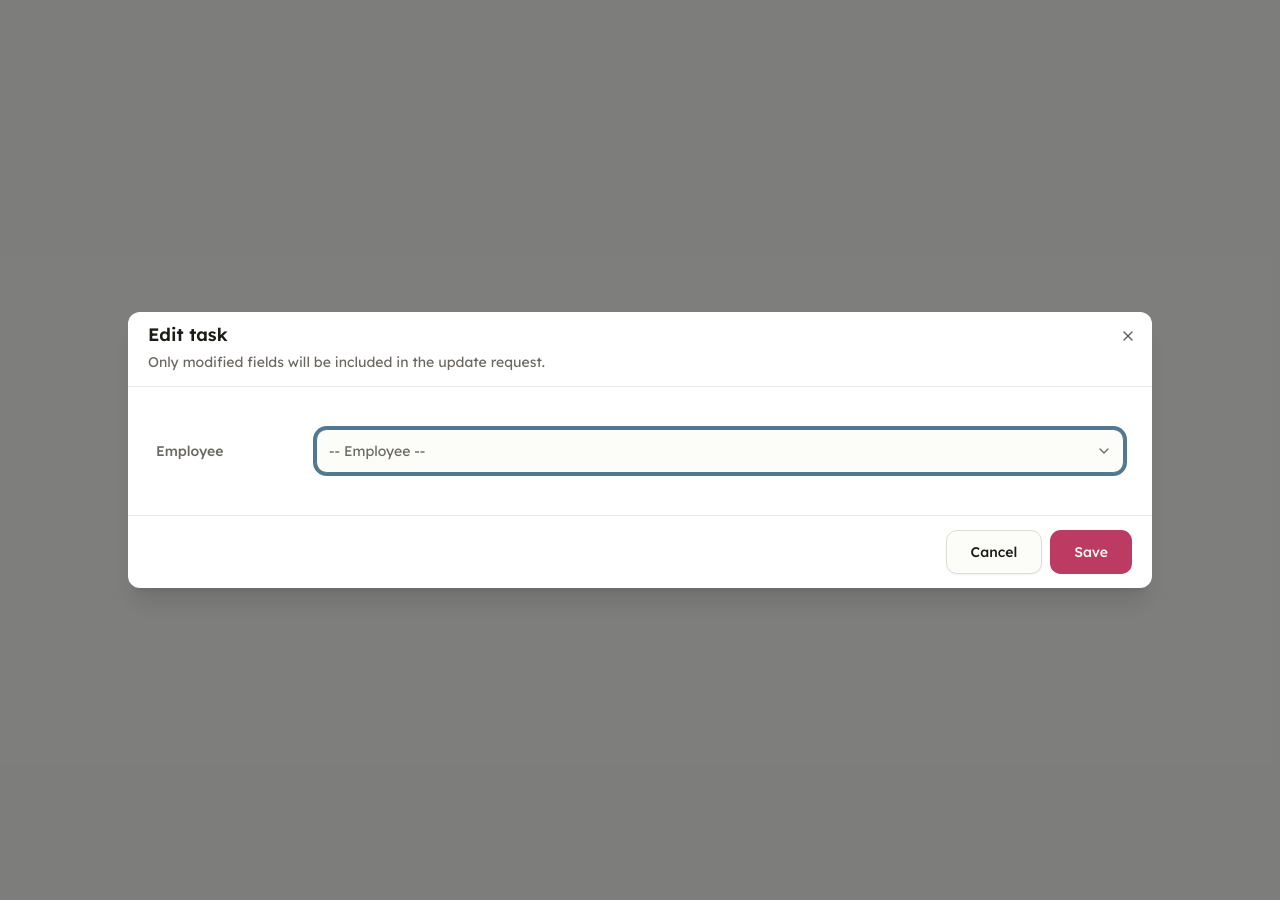
Scenario: PatchRecordDialog select fields › keeps the chosen label once the loaded pages are discarded
Click the dropdown at (720, 451), box [316,429,1124,473]
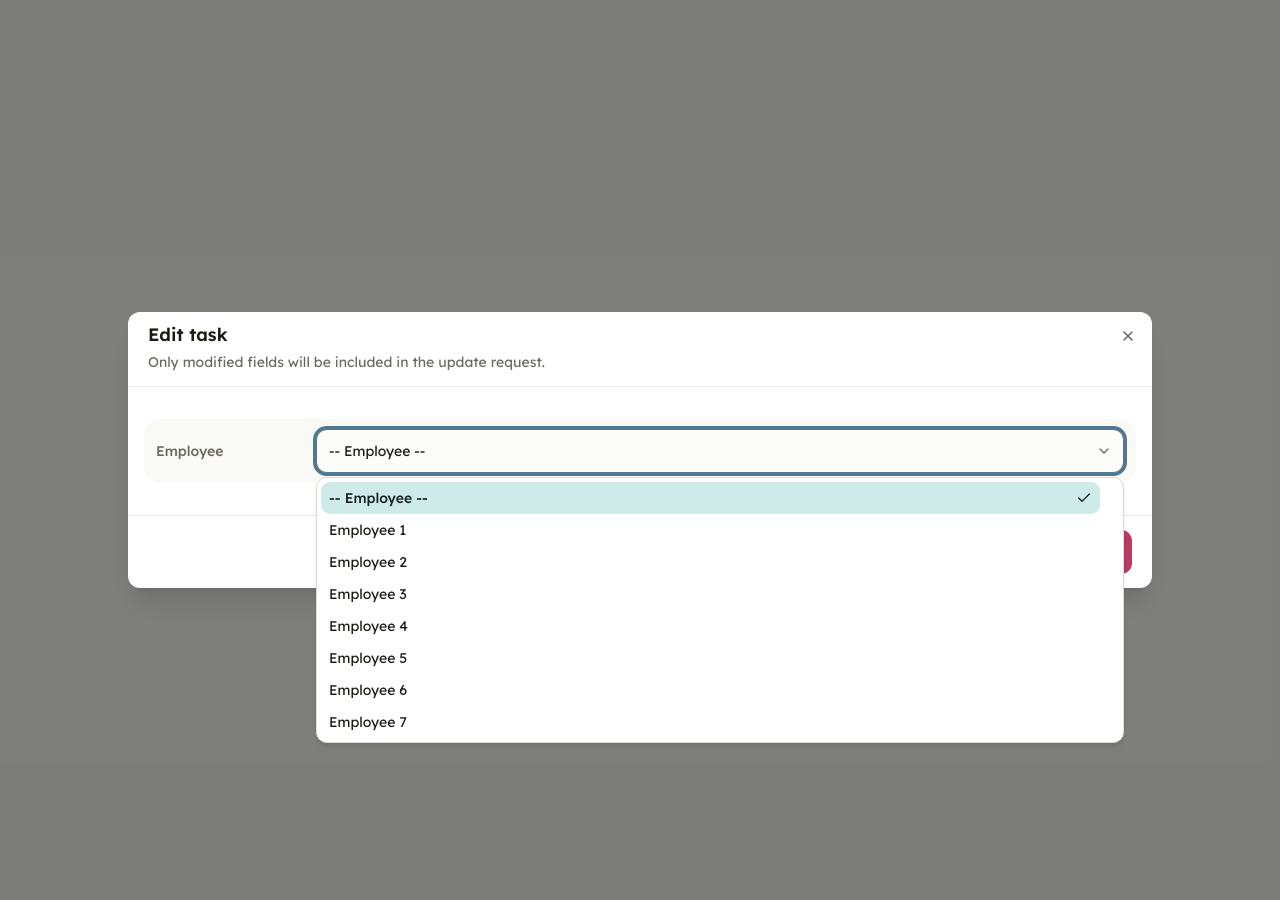
Click the option "Employee 2" at (368, 562), box [321,546,1100,578]
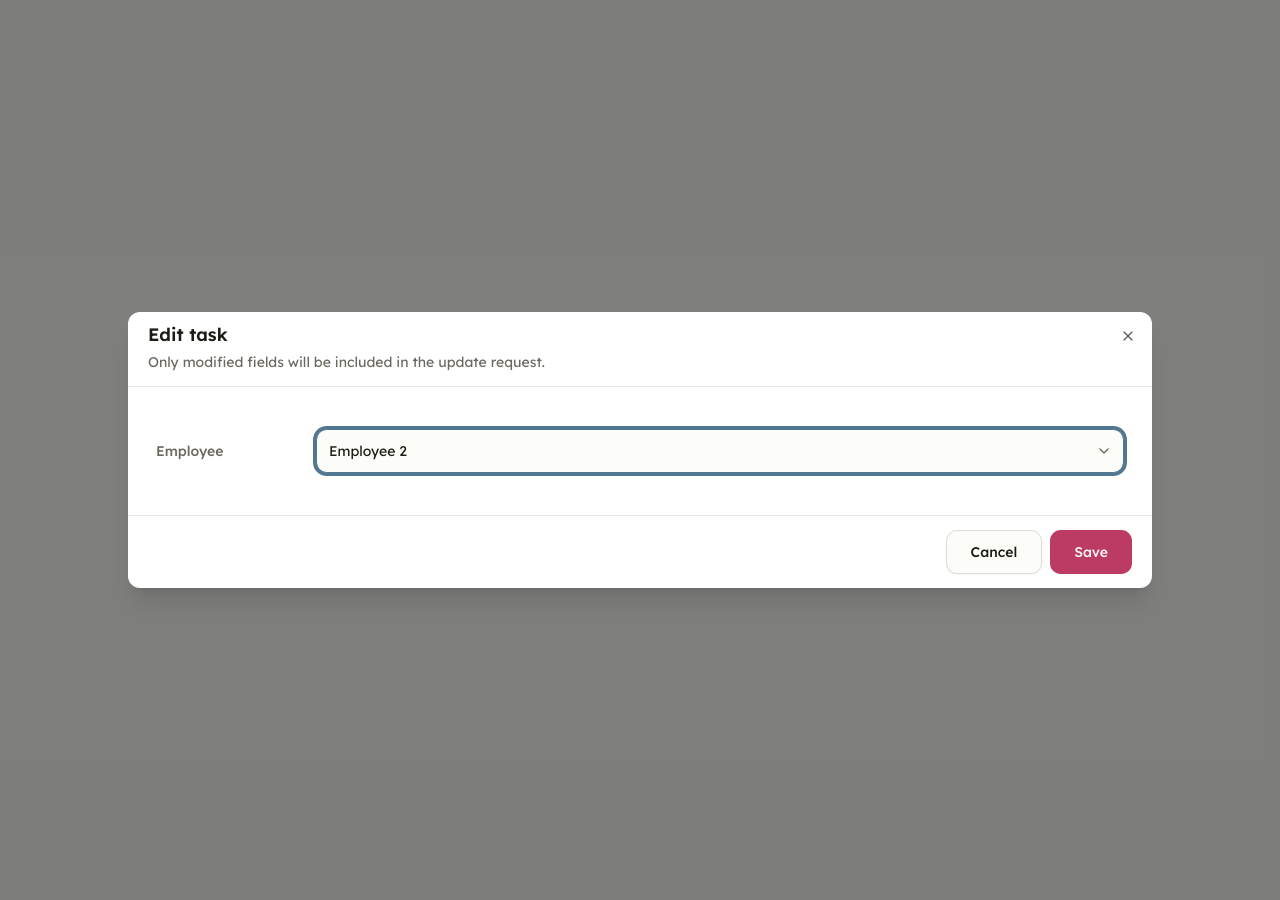
expect the dropdown holds "Employee 2": met, box [316,429,1124,473]
